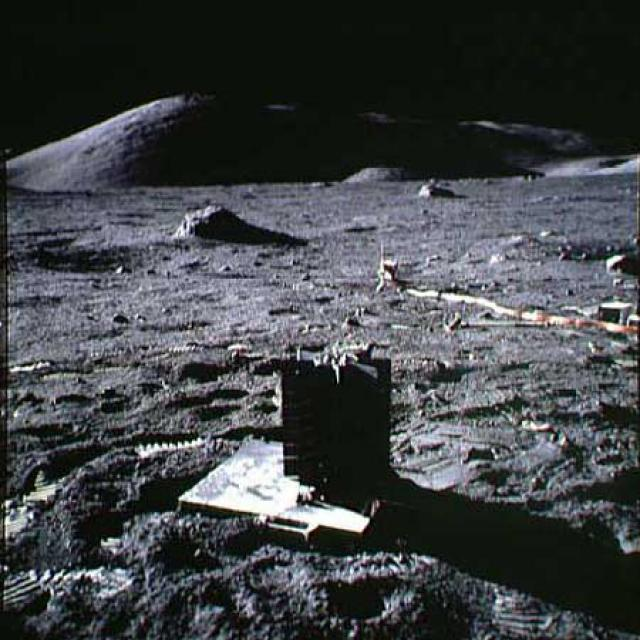artifact: (168, 327, 412, 542)
rock: (165, 194, 246, 239), (341, 161, 409, 186), (417, 180, 459, 199)
